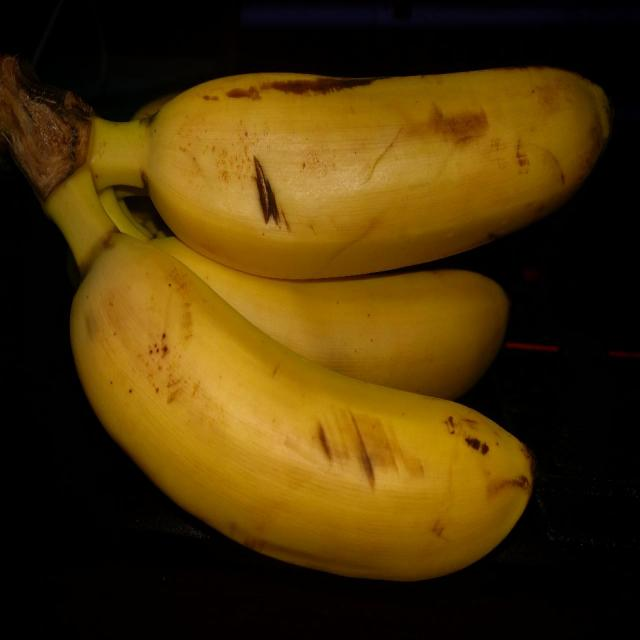banana: (52, 244, 532, 569), (150, 51, 614, 266), (164, 237, 544, 403)
